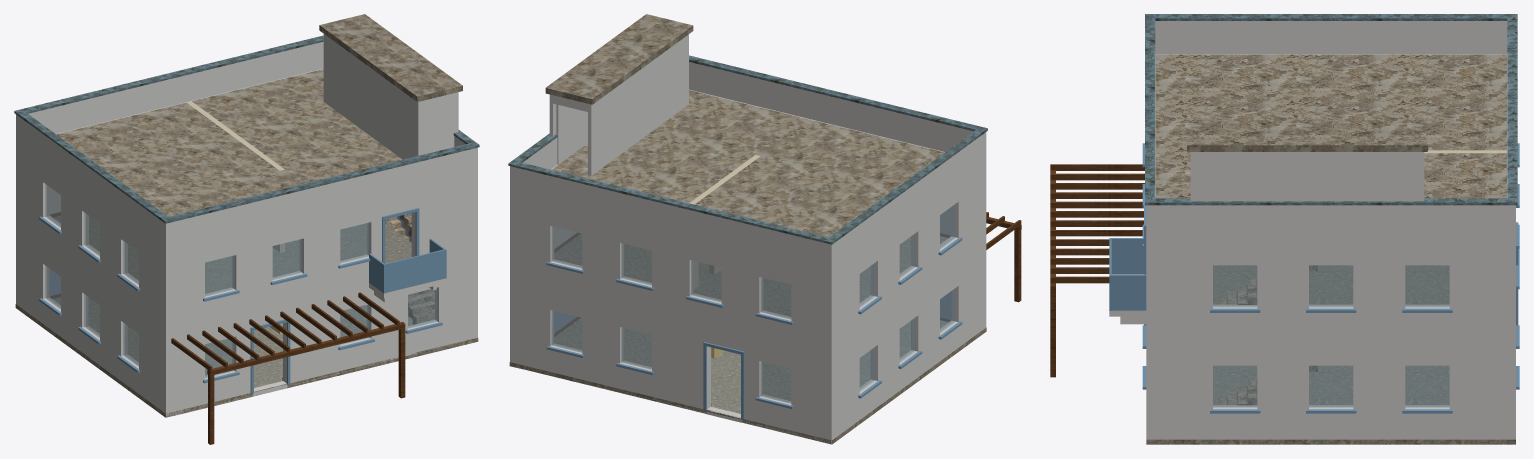
File: bay-villa-white.zfix-v7.lod0.glb
3 renders of one model, left to right at view 1: azimuth 30°, elevation 25°; view 2: azimuth 150°, elevation 25°; view 3: azimuth 270°, elevation 25°, orthographic. The views are drawn at different scales.
Visible parts, largest first — view 1: bay-villa-white; view 2: bay-villa-white; view 3: bay-villa-white.
Part boxes in pixels (x1,y1,x2,y2): bay-villa-white: (14,14,479,444); bay-villa-white: (508,14,1021,444); bay-villa-white: (1050,14,1519,444).
Bounding box in the file's own units: 12.2 × 8.96 × 12.7.
Materials: 5 (3 with a texture image).
